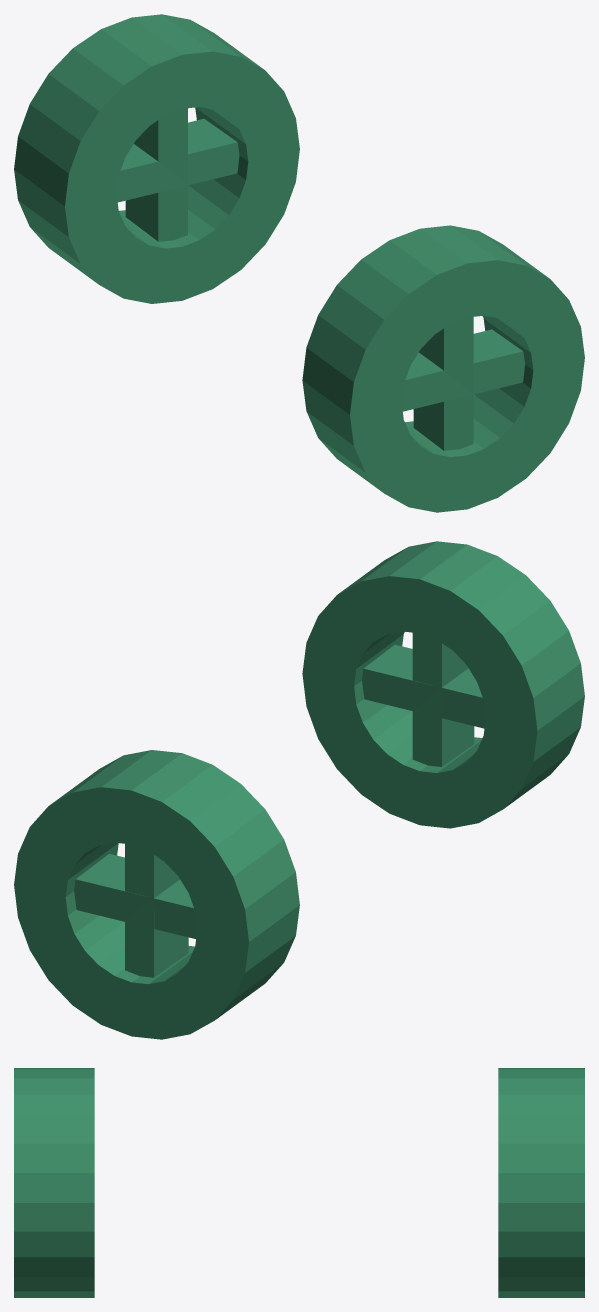
File: POGOvip-1 back wheels.glb
3 renders of one model, top to bottom at view 1: azimuth 30°, elevation 25°; view 2: azimuth 150°, elevation 25°; view 3: azimuth 270°, elevation 25°, orthographic. The views are drawn at different scales.
Visible parts, largest first — view 1: Mesh_Mesh_head_geo.001_lambert2SG.001; view 2: Mesh_Mesh_head_geo.001_lambert2SG.001; view 3: Mesh_Mesh_head_geo.001_lambert2SG.001.
Part boxes in pixels (x1,y1,x2,y2): Mesh_Mesh_head_geo.001_lambert2SG.001: [14, 14, 584, 512]; Mesh_Mesh_head_geo.001_lambert2SG.001: [14, 541, 584, 1039]; Mesh_Mesh_head_geo.001_lambert2SG.001: [14, 1068, 584, 1297].
Bounding box in the file's own units: 4 × 4 × 9.9.
